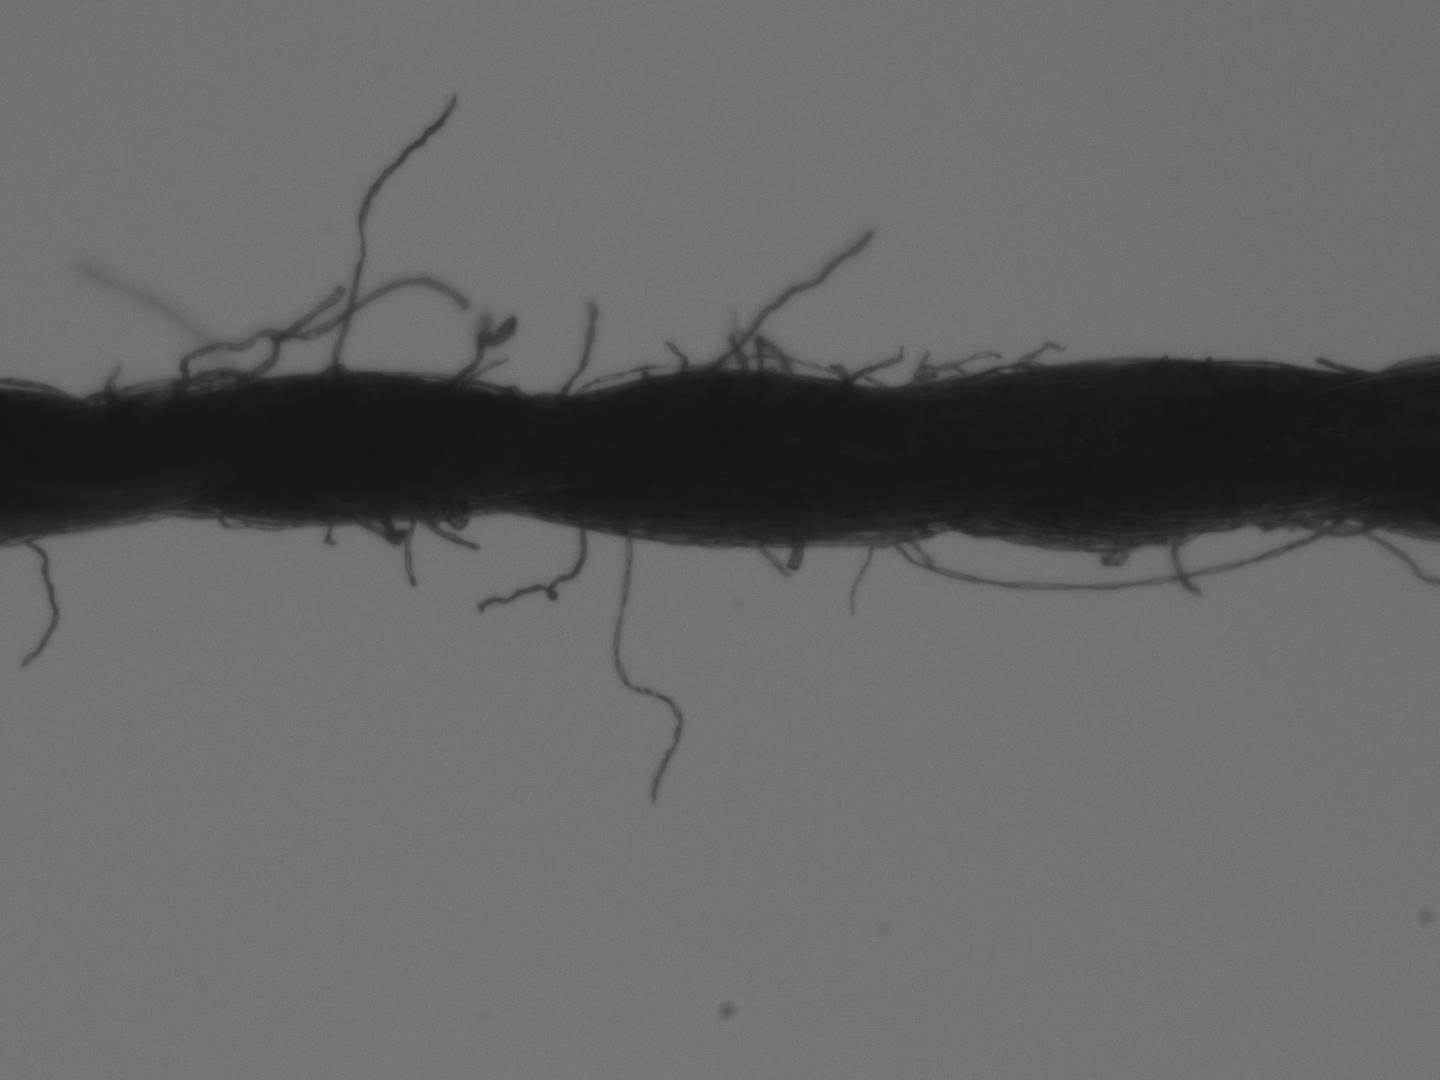loop_fiber: (896, 508, 1337, 599), (703, 349, 876, 388), (1286, 508, 1383, 541), (153, 370, 257, 398), (351, 515, 418, 545), (905, 362, 971, 387), (965, 360, 1041, 380), (755, 335, 791, 377)
protruding_fiber: (333, 94, 460, 371), (705, 227, 879, 372), (611, 530, 683, 802), (476, 521, 584, 609), (18, 535, 61, 668), (559, 302, 601, 396), (840, 352, 906, 385), (1163, 534, 1198, 591), (848, 539, 871, 616)
